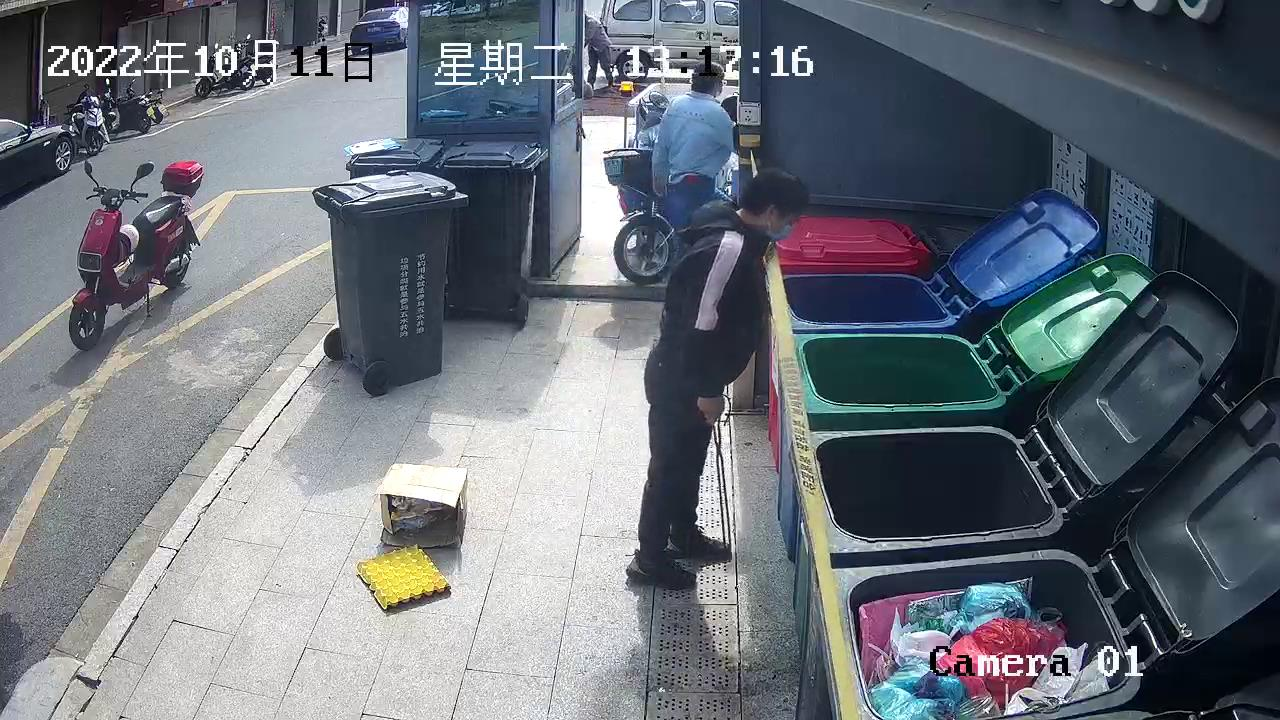person: (624, 164, 809, 589)
worker: (650, 60, 738, 229)
zhizhipin: (376, 460, 471, 550), (355, 541, 451, 613)
